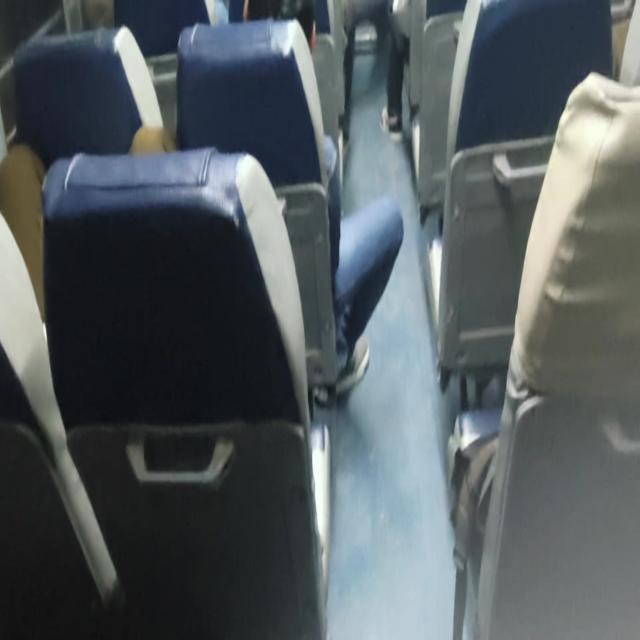person: (230, 0, 334, 49)
